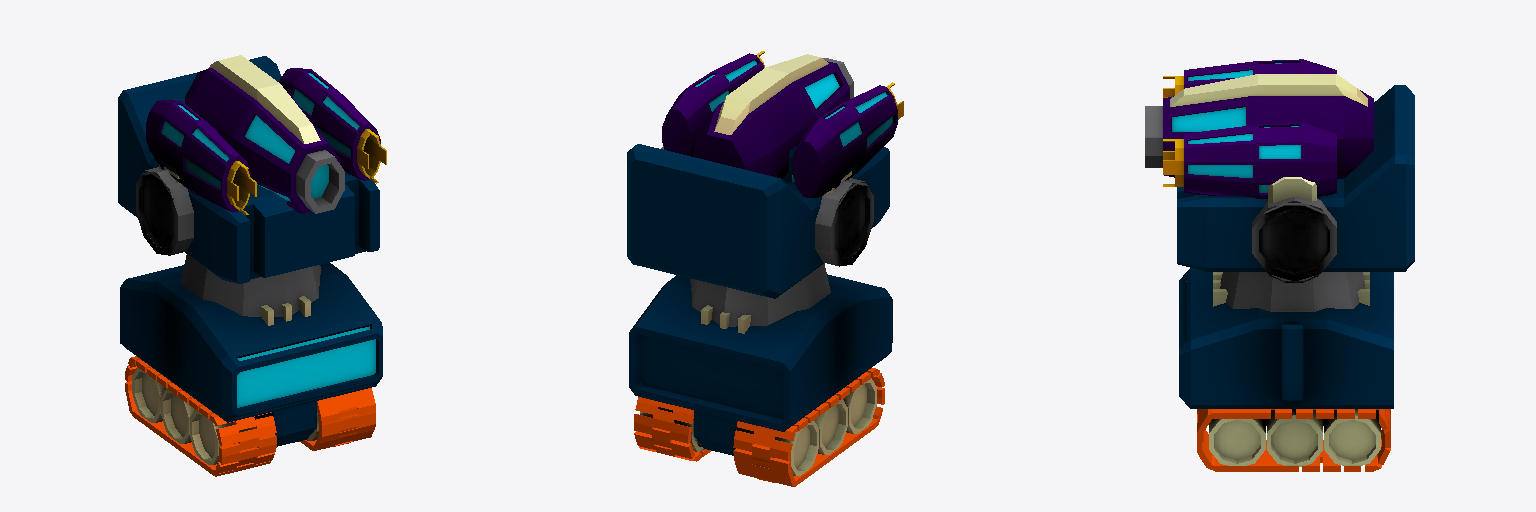
The picture shows the model from 3 angles: view 1: azimuth 30°, elevation 25°; view 2: azimuth 150°, elevation 25°; view 3: azimuth 270°, elevation 25°; orthographic projection.
Parts seen in each view (by area): view 1: Object009, Box029, Object004, Box028; view 2: Object009, Box029, Object004, Box028; view 3: Object009, Object004, Box028.
Part boxes in pixels (bbox=[...]): Object009: bbox=[118, 55, 386, 446]; Box029: bbox=[125, 356, 276, 476]; Object004: bbox=[132, 180, 318, 464]; Box028: bbox=[299, 388, 375, 450]; Object009: bbox=[627, 51, 903, 455]; Box029: bbox=[733, 368, 884, 486]; Object004: bbox=[640, 197, 876, 475]; Box028: bbox=[634, 397, 710, 461]; Object009: bbox=[1145, 59, 1414, 425]; Object004: bbox=[1209, 211, 1380, 466]; Box028: bbox=[1197, 409, 1390, 471].
Bounding box in the file's own units: 211 × 375 × 259.
4 materials, 3 textured.